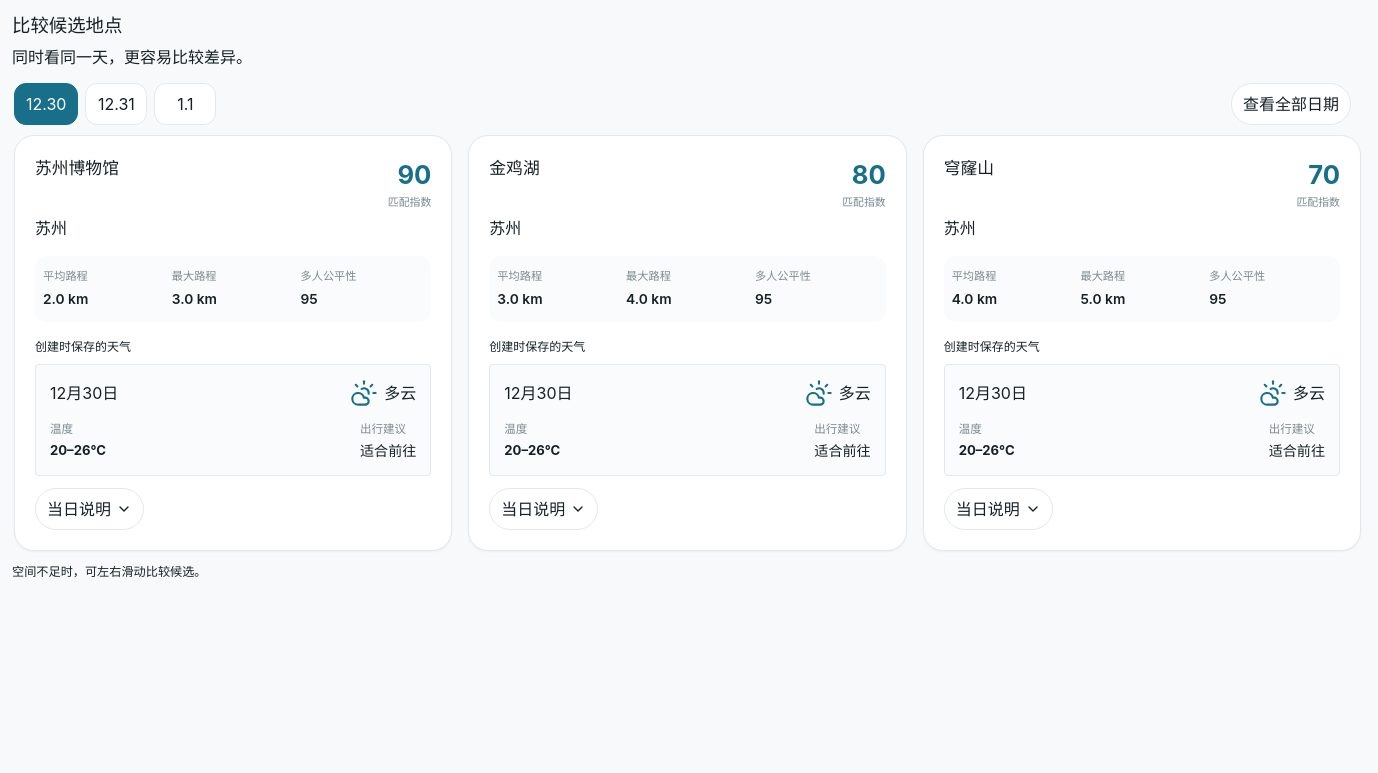
Test: announces an offscreen all-dates table on expansion but clears the notice on collapse
Click the button "查看全部日期" at (1291, 104), box [1231, 83, 1351, 125]
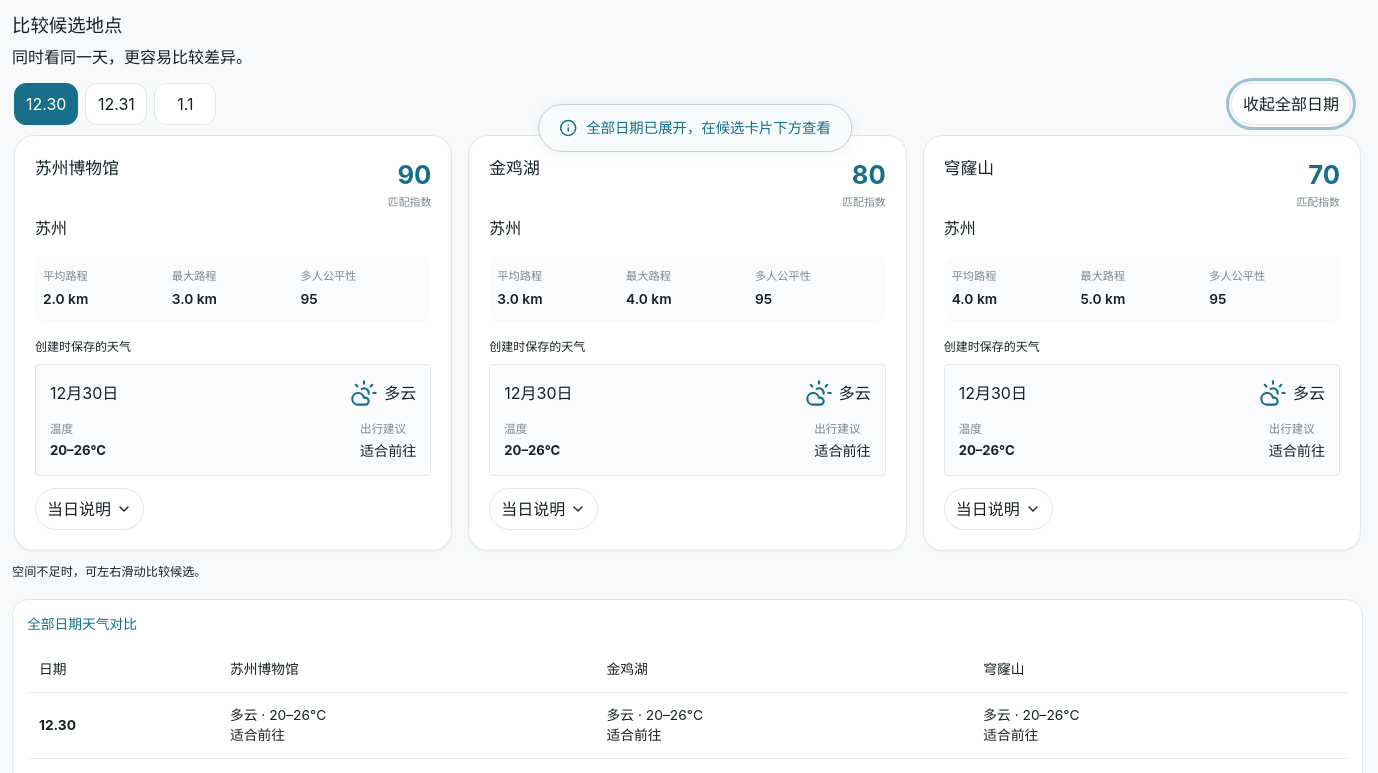
Check: the message shows "候选卡片下方", box [586, 119, 831, 136]
Click the button "收起全部日期" at (1291, 104), box [1231, 83, 1351, 125]
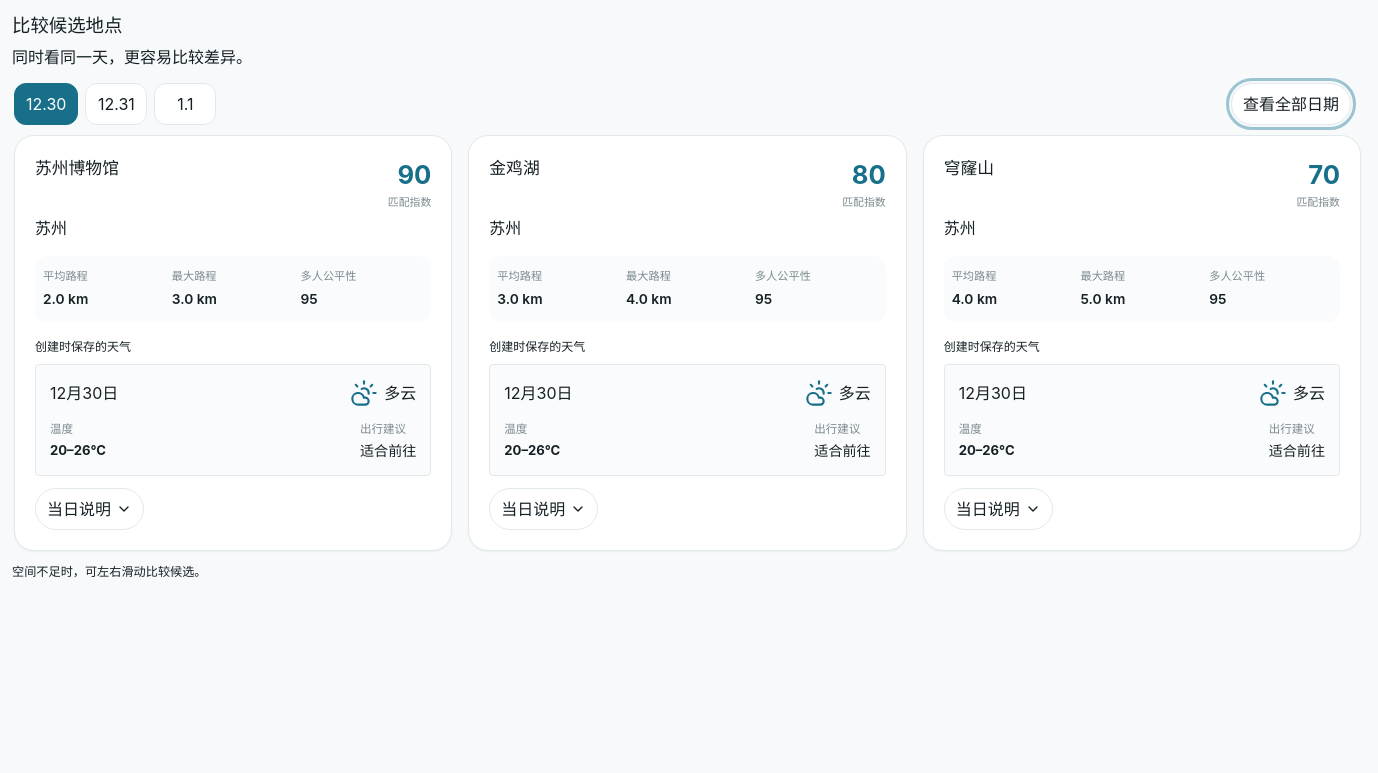
Check: the message "全部日期已展开，在候选卡片下方查看" is gone
